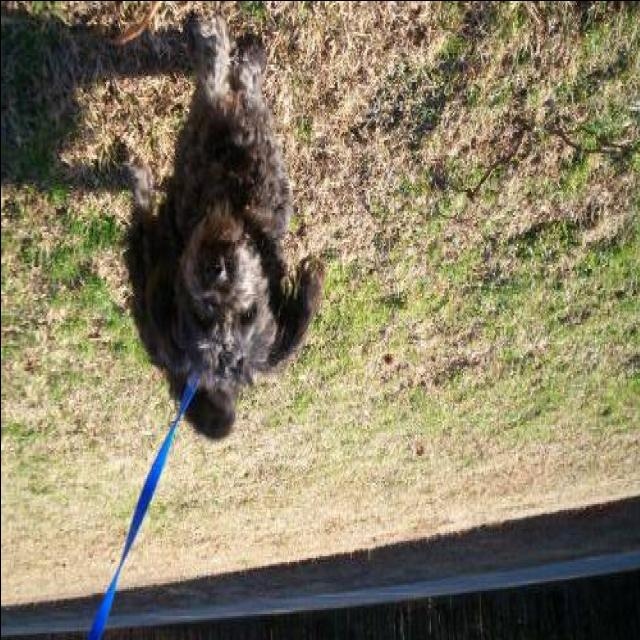dog: (107, 29, 334, 460)
